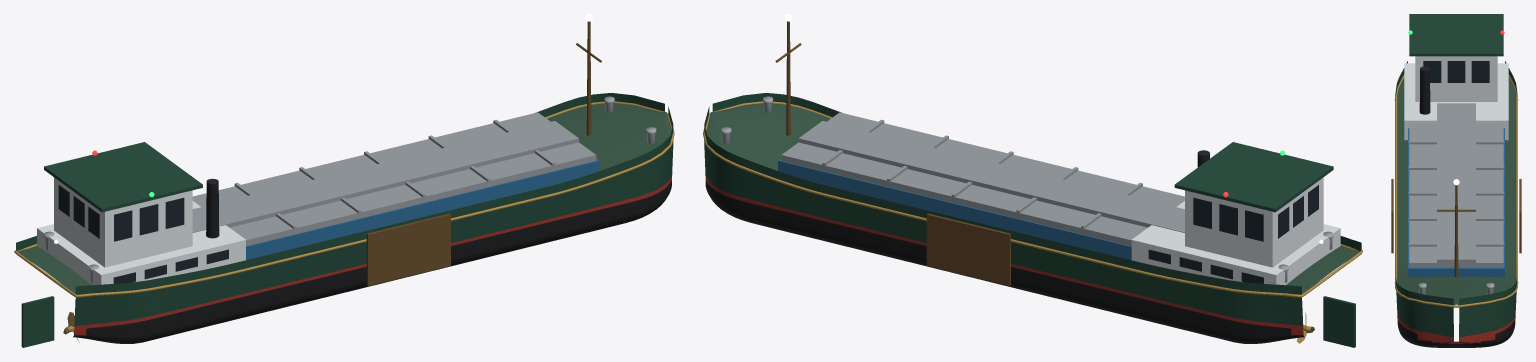
File: barge.glb
3 views of the same model, side by side, from view 1: azimuth 30°, elevation 25°; view 2: azimuth 150°, elevation 25°; view 3: azimuth 270°, elevation 25° (orthographic). The views are drawn at different scales.
Parts seen in each view (by area): view 1: hull, hatch_covers, wheelhouse_roof, gunwale, deck, wheelhouse, hold_coaming, cabin_top, leeboard_s, rubbing_strake, wheelhouse_win_s, rudder (+5 smaller); view 2: hull, hatch_covers, wheelhouse_roof, gunwale, deck, wheelhouse, hold_coaming, cabin_top, leeboard_p, rubbing_strake, wheelhouse_win_p, rudder (+3 smaller); view 3: hatch_covers, deck, hull, wheelhouse_roof, cabin_top, wheelhouse, rubbing_strake, hold_coaming, wheelhouse_win_f, gunwale, exhaust_stack, mast_pole (+3 smaller).
Part boxes in pixels (<box>): hull: <box>73,140,673,343</box>; hatch_covers: <box>192,112,596,246</box>; wheelhouse_roof: <box>44,142,202,212</box>; gunwale: <box>16,93,673,294</box>; deck: <box>18,103,671,293</box>; wheelhouse: <box>54,177,192,267</box>; hold_coaming: <box>246,159,599,260</box>; cabin_top: <box>37,201,245,285</box>; leeboard_s: <box>366,213,450,285</box>; rubbing_strake: <box>14,101,674,297</box>; wheelhouse_win_s: <box>114,197,184,241</box>; rudder: <box>21,296,54,347</box>; hull: <box>704,140,1304,343</box>; hatch_covers: <box>781,112,1184,246</box>; wheelhouse_roof: <box>1174,142,1333,212</box>; gunwale: <box>704,93,1361,294</box>; deck: <box>706,103,1359,293</box>; wheelhouse: <box>1185,177,1323,267</box>; hold_coaming: <box>778,159,1131,260</box>; cabin_top: <box>1131,201,1340,285</box>; leeboard_p: <box>926,213,1010,285</box>; rubbing_strake: <box>703,101,1362,297</box>; wheelhouse_win_p: <box>1193,197,1263,241</box>; rudder: <box>1323,296,1355,347</box>; hatch_covers: <box>1408,103,1504,267</box>; deck: <box>1397,78,1515,305</box>; hull: <box>1396,292,1516,347</box>; wheelhouse_roof: <box>1409,14,1503,56</box>; cabin_top: <box>1404,63,1508,140</box>; wheelhouse: <box>1415,56,1497,101</box>; rubbing_strake: <box>1394,74,1518,307</box>; hold_coaming: <box>1408,128,1504,277</box>; wheelhouse_win_f: <box>1423,61,1489,82</box>; gunwale: <box>1396,61,1516,305</box>; exhaust_stack: <box>1419,72,1430,114</box>; mast_pole: <box>1437,185,1475,277</box>.
Bounding box in the file's own units: 24.95 × 7.3 × 5.4.
